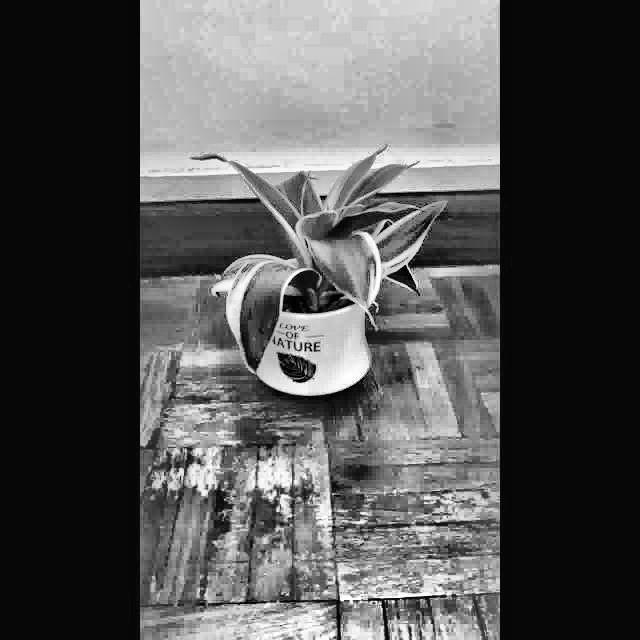plants: (184, 126, 453, 404)
